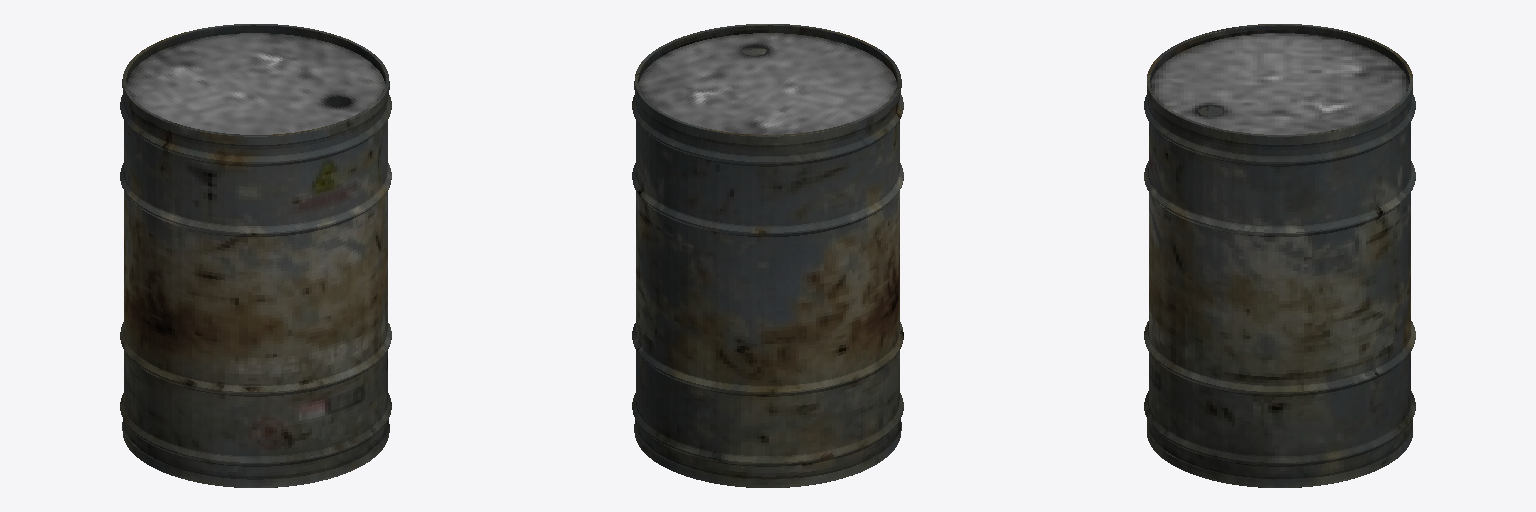
The picture shows the model from 3 angles: view 1: azimuth 30°, elevation 25°; view 2: azimuth 150°, elevation 25°; view 3: azimuth 270°, elevation 25°; orthographic projection.
Visible parts, largest first — view 1: Barrel; view 2: Barrel; view 3: Barrel.
Boxes of the visible parts, box(x1,y1,x2,y2) form: Barrel: box(120, 24, 391, 487); Barrel: box(632, 24, 903, 487); Barrel: box(1144, 24, 1415, 487).
Size of the model in its own units: 249 by 356 by 249.
Materials: 1 (1 with a texture image).